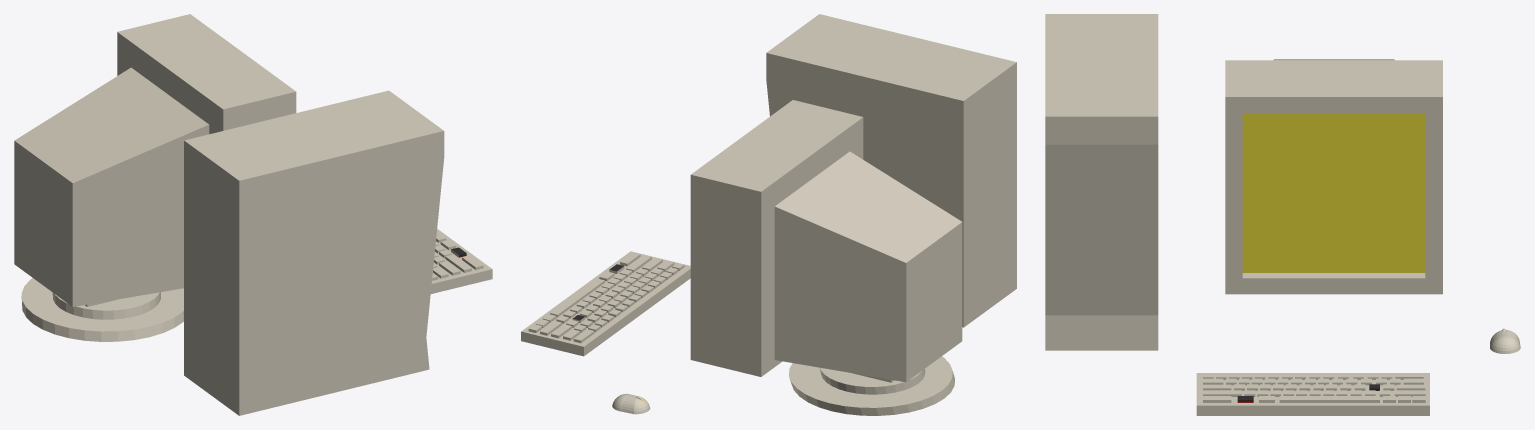
The model's file is computeryellow.fbx.
The picture shows the model from 3 angles, left to right: view 1: azimuth 30°, elevation 25°; view 2: azimuth 150°, elevation 25°; view 3: azimuth 270°, elevation 25°; orthographic projection. The views are drawn at different scales.
Visible parts, largest first — view 1: Cube.024, Cube.022, Cube.023; view 2: Cube.022, Cube.024, Cube.023, Sphere.004; view 3: Cube.022, Cube.024, Cube.023, Sphere.004.
Part boxes in pixels (<box>): Cube.024: <box>184,90,444,415</box>; Cube.022: <box>14,14,296,341</box>; Cube.023: <box>430,229,492,293</box>; Cube.022: <box>690,100,962,415</box>; Cube.024: <box>766,14,1016,327</box>; Cube.023: <box>521,251,690,356</box>; Sphere.004: <box>612,393,650,414</box>; Cube.022: <box>1225,59,1442,294</box>; Cube.024: <box>1045,14,1158,350</box>; Cube.023: <box>1196,373,1429,415</box>; Sphere.004: <box>1490,328,1520,353</box>.
Size of the model in its own units: 131 by 75.24 by 133.
Materials: 3 (3 with a texture image).
